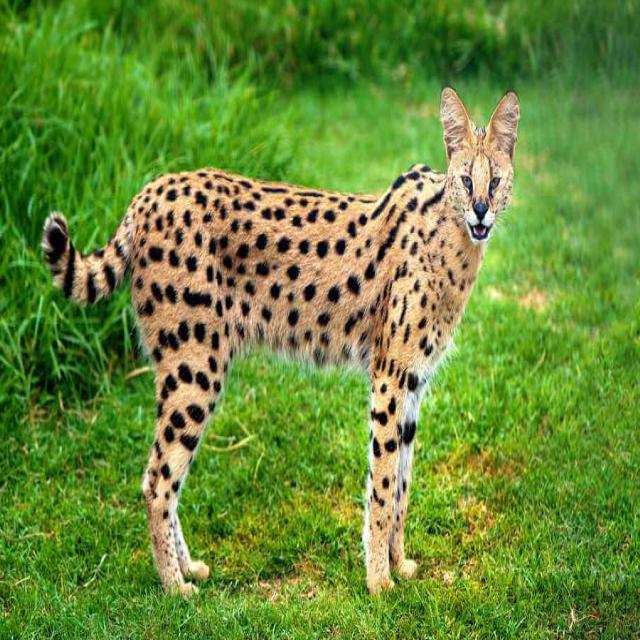Savannah: (39, 78, 524, 611)
